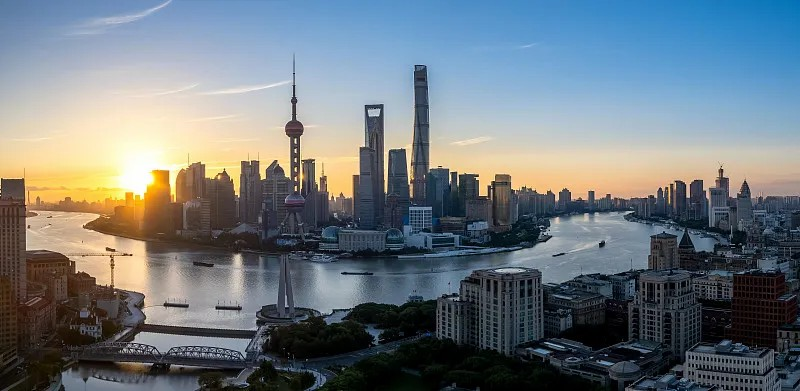Oriental: (277, 54, 307, 239)
